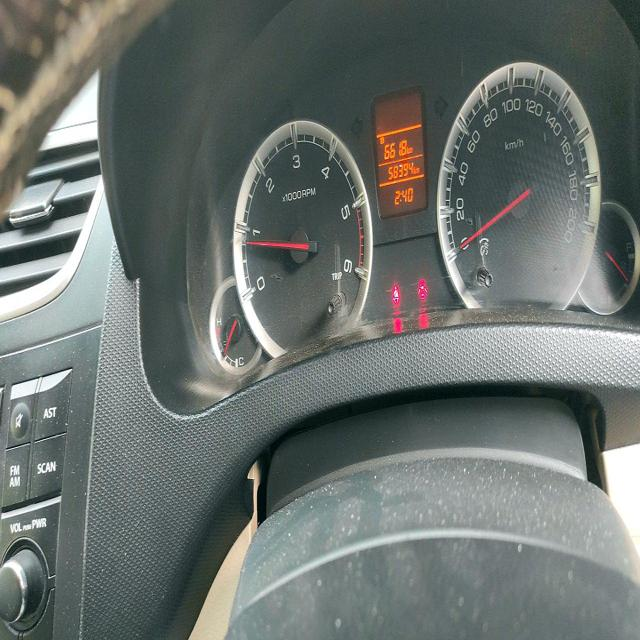odometer: (384, 159, 416, 184)
